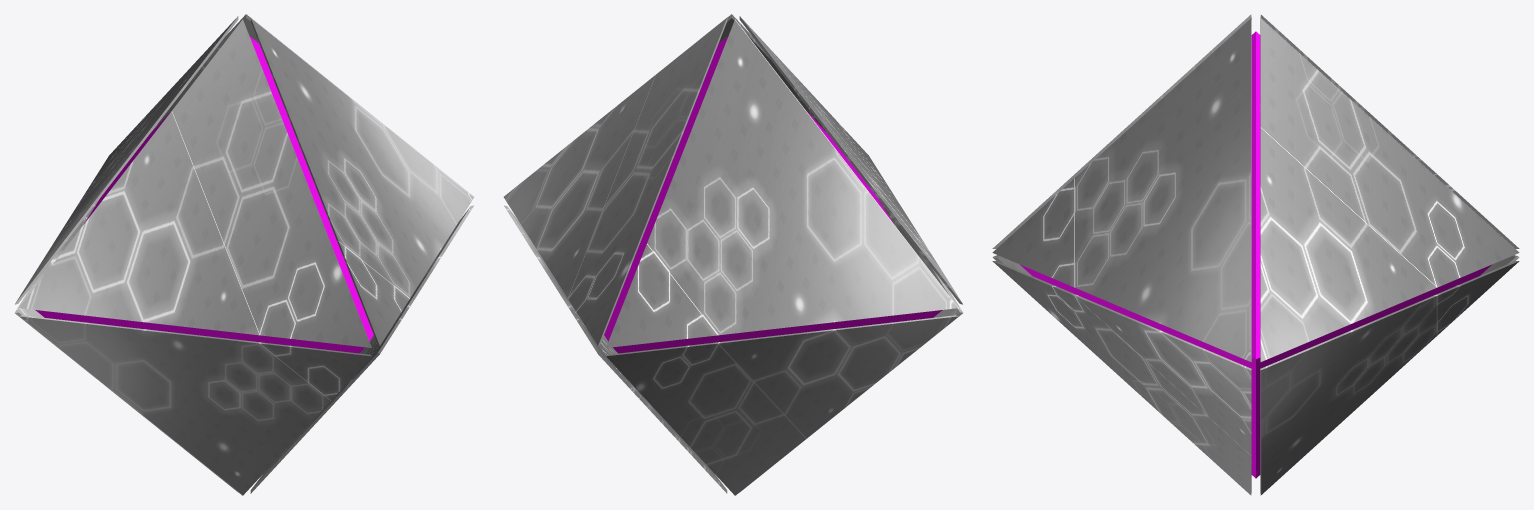
Rendered from Octahedron.fbx.
The picture shows the model from 3 angles, left to right: view 1: azimuth 30°, elevation 25°; view 2: azimuth 150°, elevation 25°; view 3: azimuth 270°, elevation 25°; orthographic projection.
Visible parts, largest first — view 1: top, under; view 2: top, under; view 3: top, under.
Part boxes in pixels (x1,y1,x2,y2): top: (15,14,474,347); under: (14,199,473,495); top: (503,14,962,347); under: (504,199,963,495); top: (992,14,1519,361); under: (992,255,1519,495).
Bounding box in the file's own units: 42.74 × 42.74 × 42.74.
